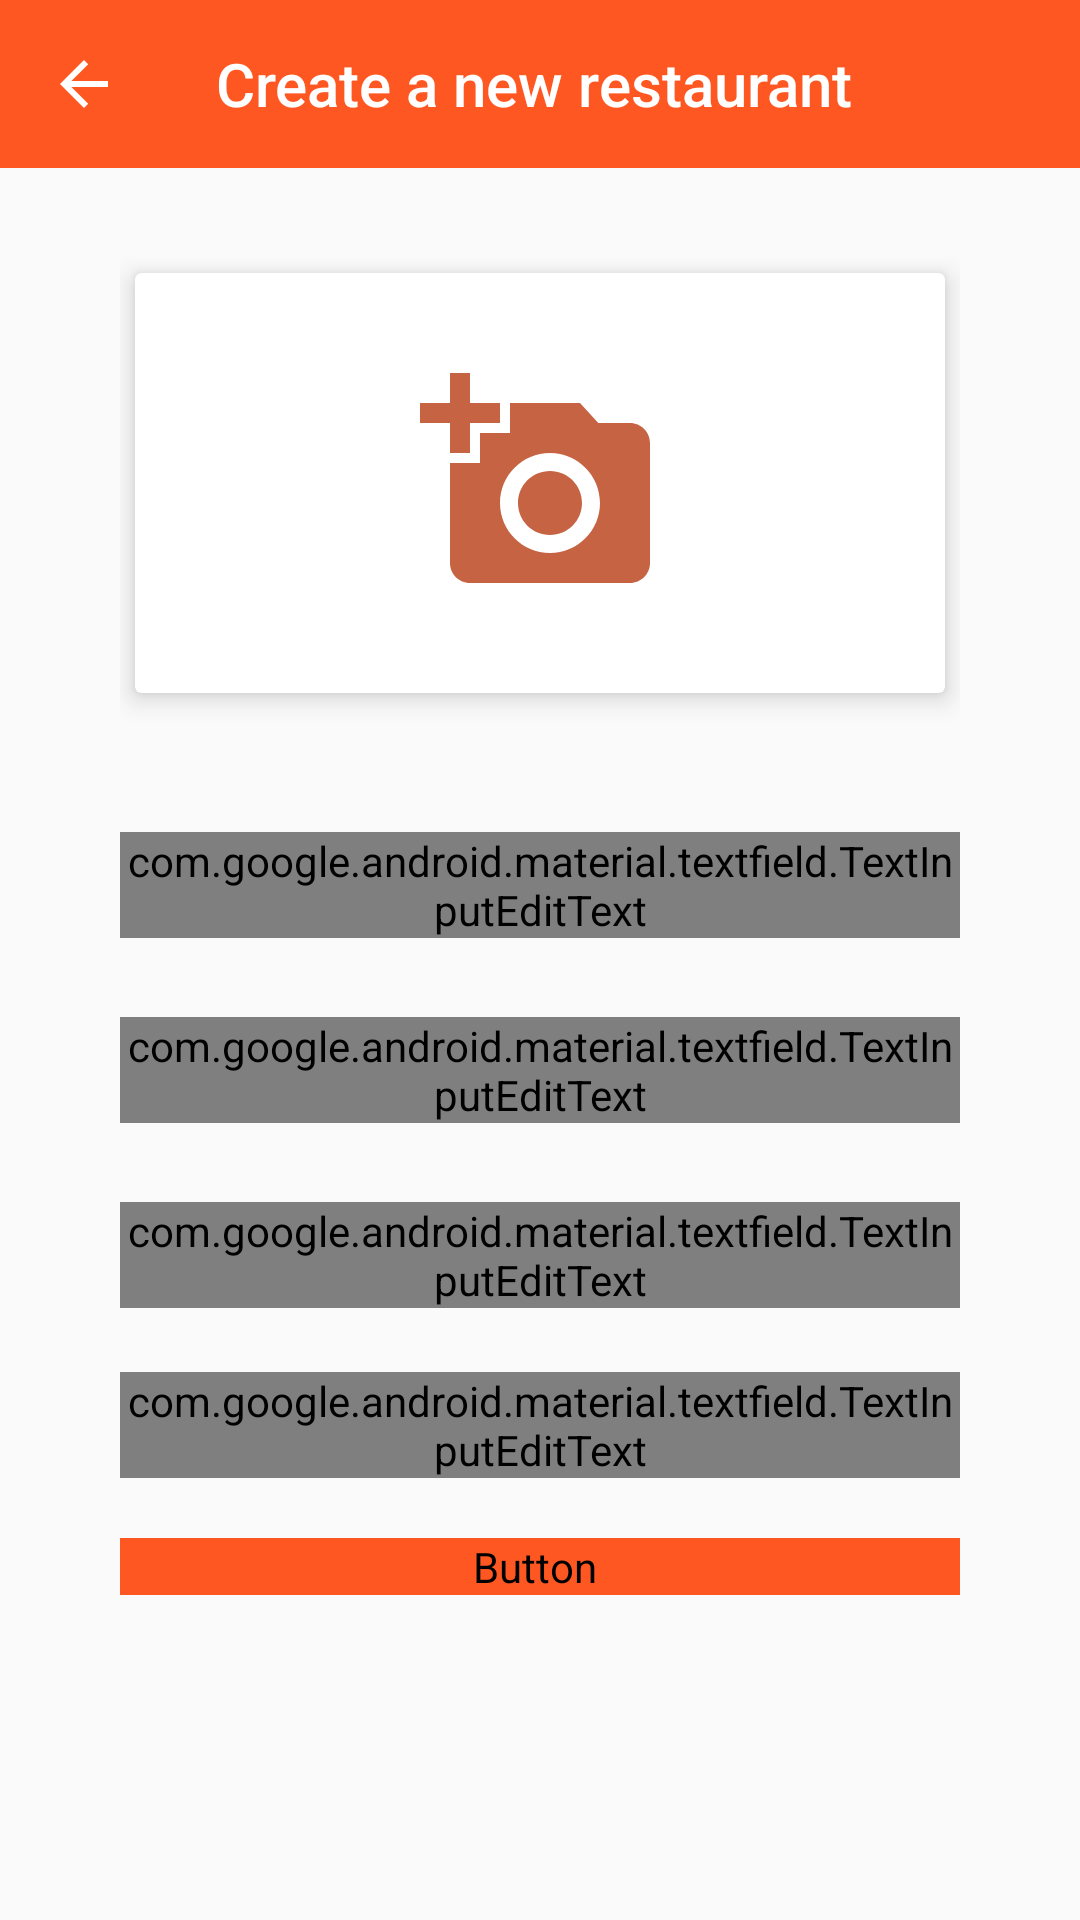

Named icons in this screenshot (1080 × 1920) and their bounding boxes, (x1, y1, x2, y2):
plus pic: (420, 373, 650, 583)
